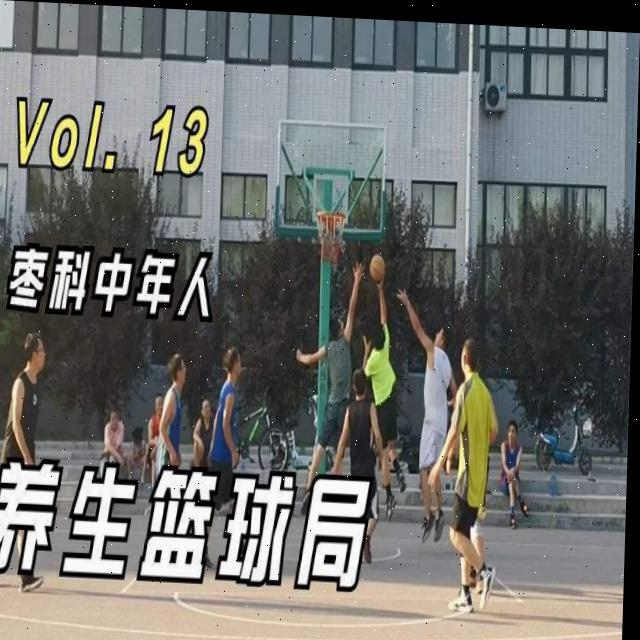basketball: (370, 254, 386, 280)
hoop: (314, 210, 346, 264)
